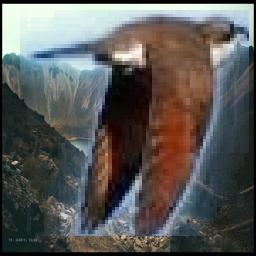Cuckoo: (21, 10, 250, 236)
